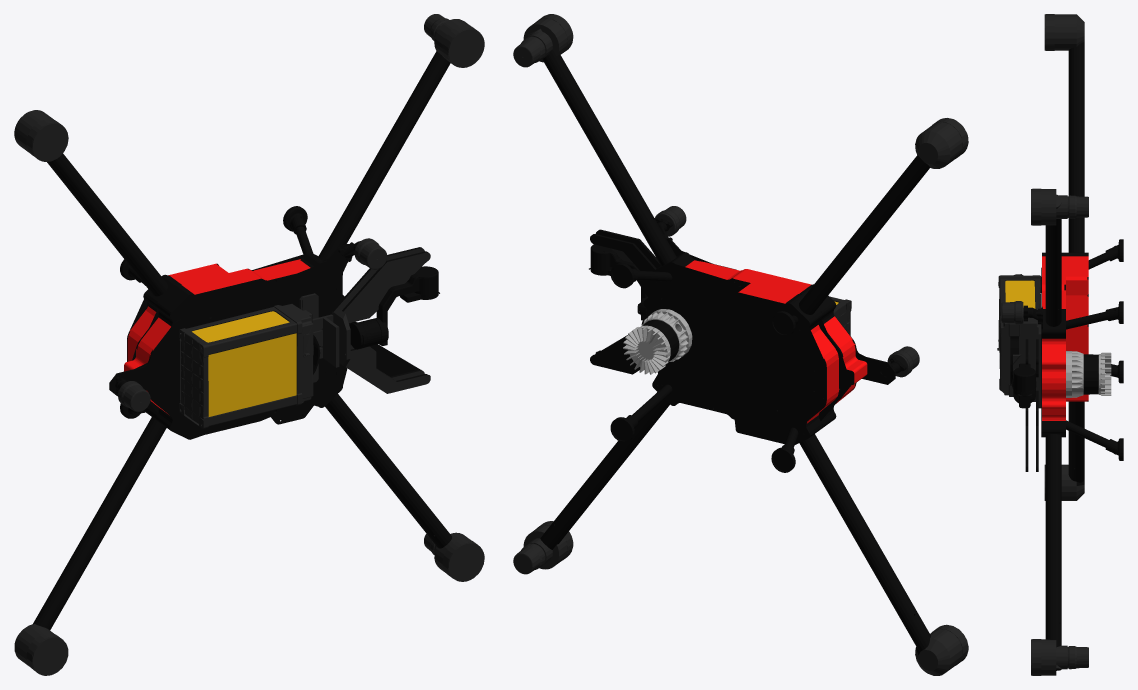
The model's file is BroliSimple.obj.
3 views of the same model, side by side, from view 1: azimuth 30°, elevation 25°; view 2: azimuth 150°, elevation 25°; view 3: azimuth 270°, elevation 25° (orthographic). The views are drawn at different scales.
Visible parts, largest first — view 1: BroliSimpleColoredNoGimbalMount; view 2: BroliSimpleColoredNoGimbalMount; view 3: BroliSimpleColoredNoGimbalMount.
Boxes of the visible parts, x1=… form: BroliSimpleColoredNoGimbalMount: x1=14, y1=14, x2=484, y2=675; BroliSimpleColoredNoGimbalMount: x1=513, y1=14, x2=968, y2=675; BroliSimpleColoredNoGimbalMount: x1=997, y1=14, x2=1123, y2=675.
Bounding box in the file's own units: 0.8395 × 0.9956 × 0.2355.
